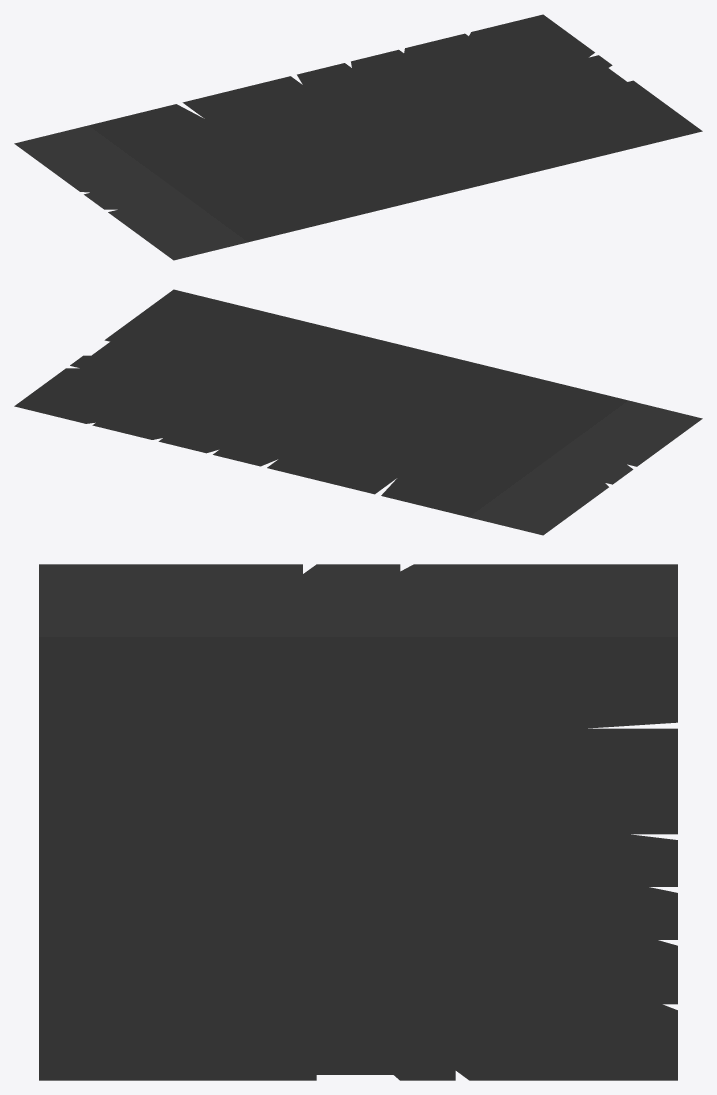
File: floors.fbx
3 views of the same model, one above another, from view 1: azimuth 30°, elevation 25°; view 2: azimuth 150°, elevation 25°; view 3: azimuth 270°, elevation 25° (orthographic). The views are drawn at different scales.
Visible parts, largest first — view 1: Plane.001; view 2: Plane.001; view 3: Plane.001.
Part boxes in pixels (x1=…): Plane.001: x1=14, y1=14, x2=702, y2=260; Plane.001: x1=14, y1=289, x2=702, y2=535; Plane.001: x1=39, y1=564, x2=677, y2=1080.
Size of the model in its own units: 16000 by 0.00136 by 8364.
